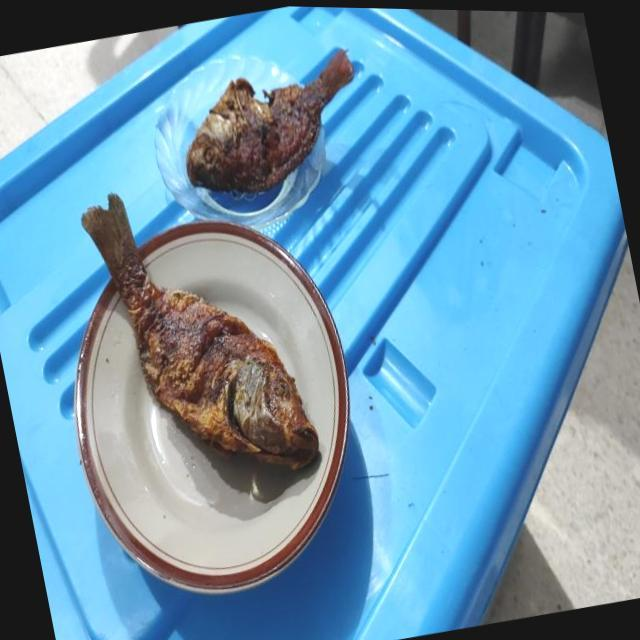ikan_mujair: (82, 193, 318, 470), (186, 49, 354, 200)
